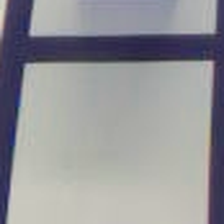empty: (23, 65, 210, 223)
